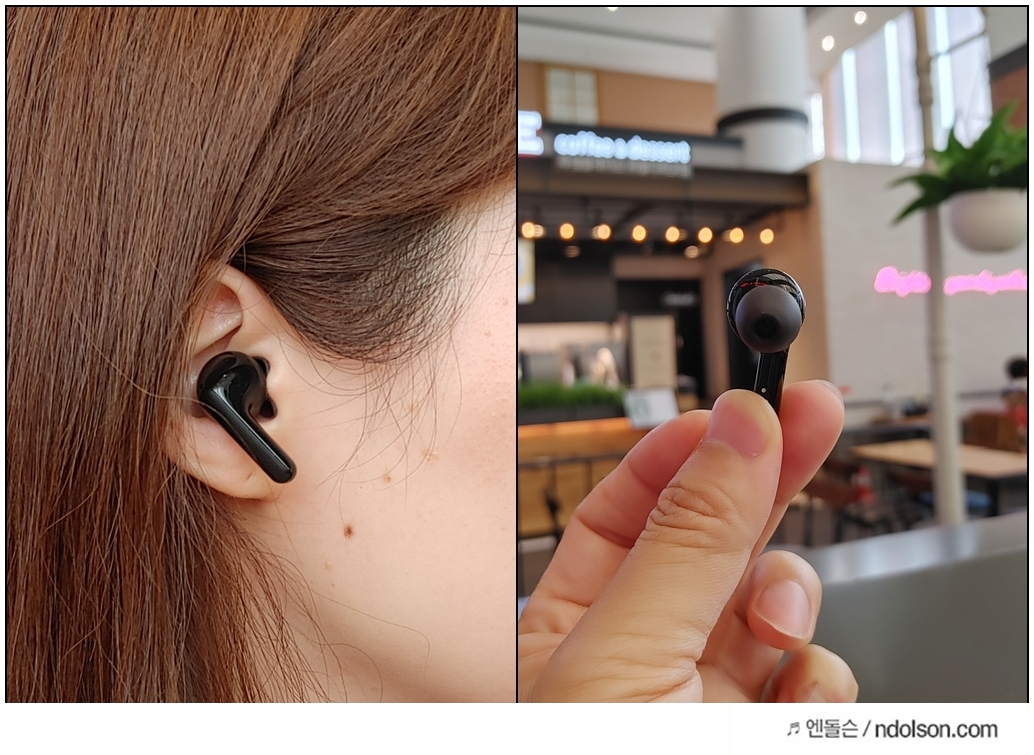earphone: (123, 260, 299, 499)
